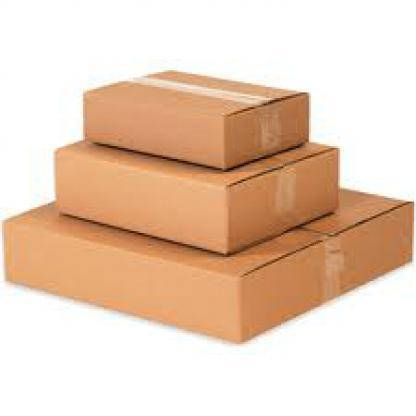box: (2, 183, 413, 344), (54, 137, 338, 259), (79, 67, 309, 171)
